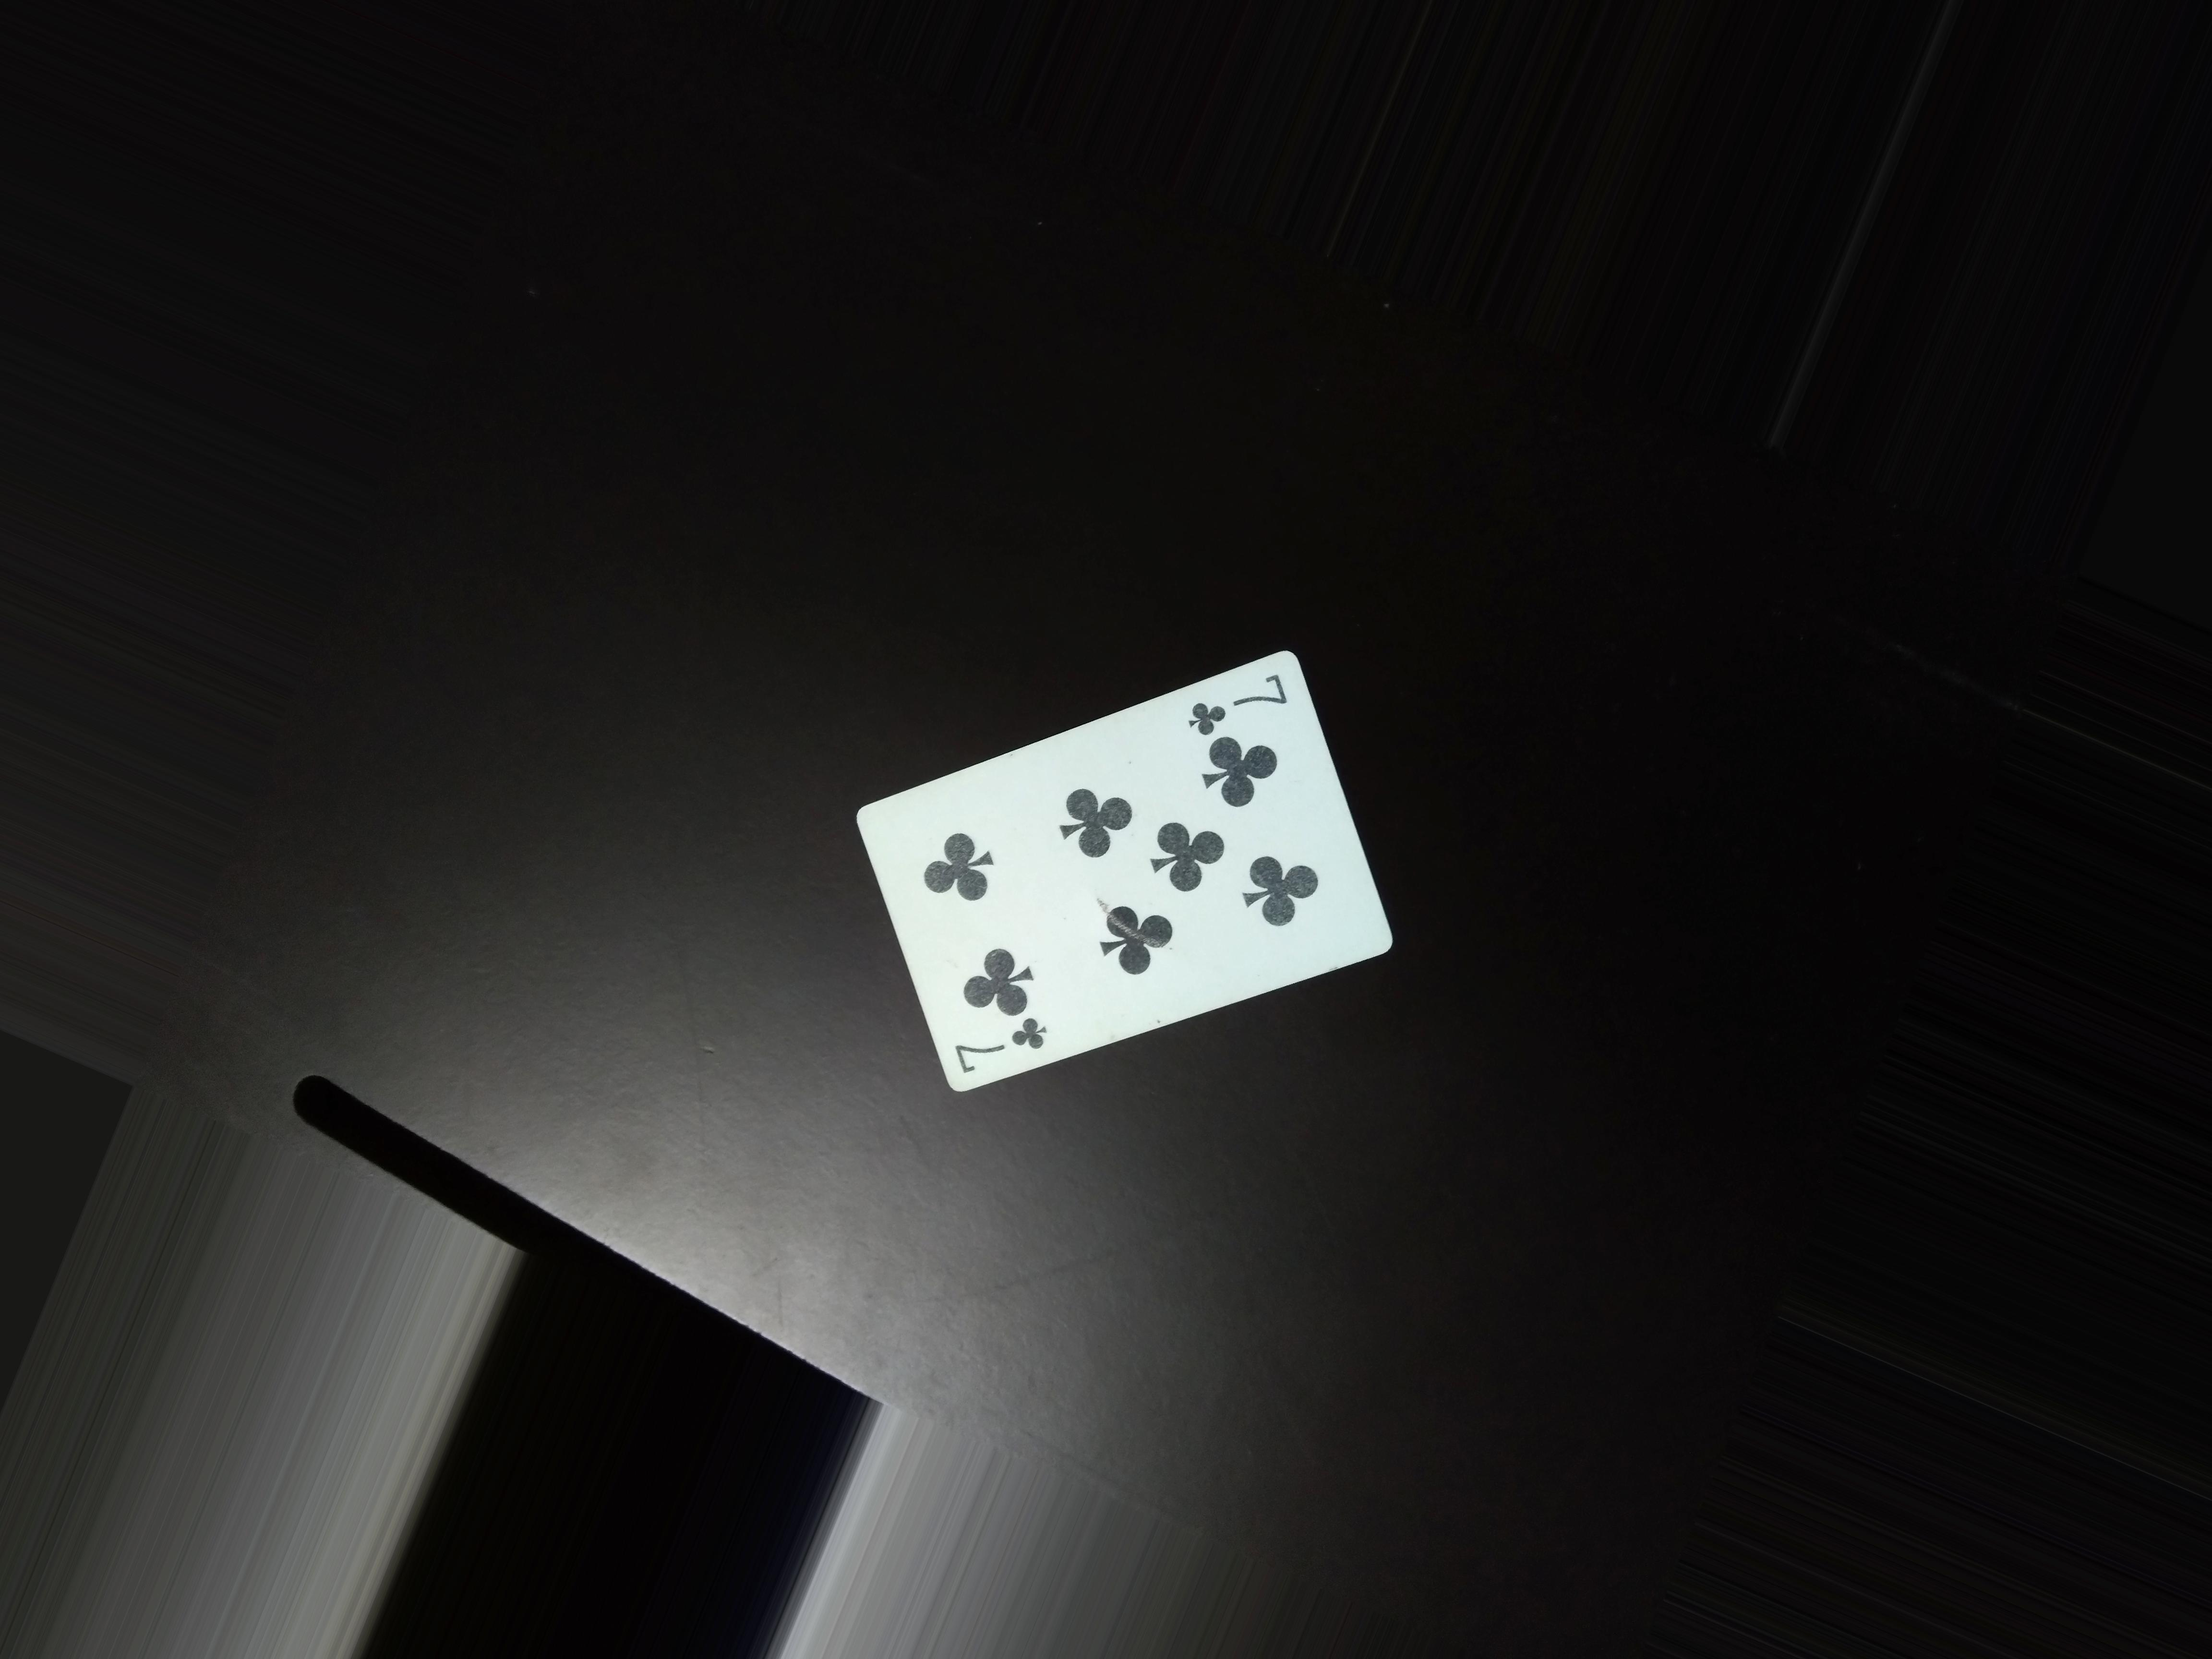7C: (1165, 673, 1292, 737)
